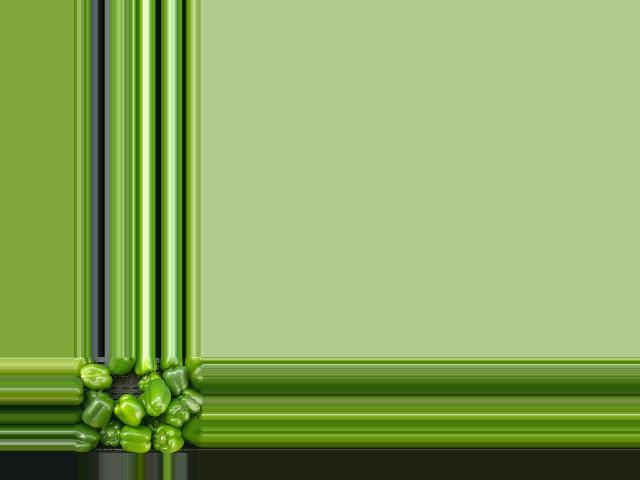bell_pepper: (182, 412, 203, 439)
